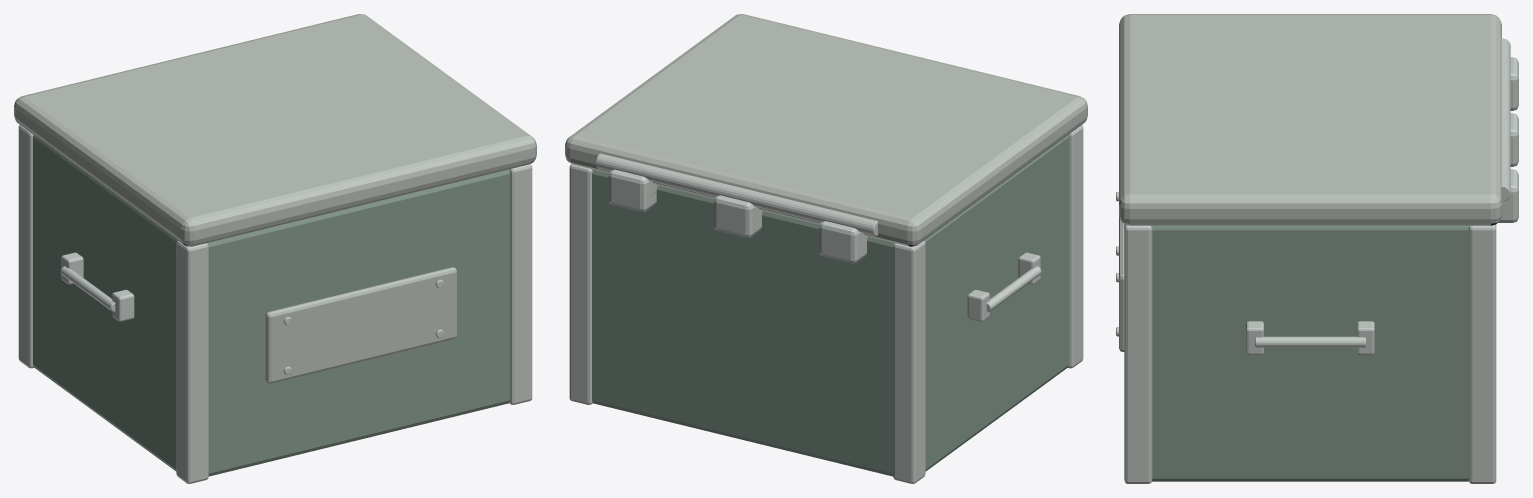
The model's file is Grande caisse de stockage.glb.
The picture shows the model from 3 angles, left to right: view 1: azimuth 30°, elevation 25°; view 2: azimuth 150°, elevation 25°; view 3: azimuth 270°, elevation 25°; orthographic projection. The views are drawn at different scales.
Parts seen in each view (by area): view 1: CRATE_BULK_Reinforced_Lid, CRATE_BULK_Front_Wall, CRATE_BULK_Left_Wall, CRATE_BULK_Attached_Front_Panel, CRATE_BULK_Corner_Post_-1.0_-1.0, CRATE_BULK_Corner_Post_1.0_-1.0, CRATE_BULK_Corner_Post_-1.0_1.0, CRATE_BULK_Bottom_Slab, CRATE_BULK_Left_Handle_Grip, CRATE_BULK_Left_Handle_Front_Mount; view 2: CRATE_BULK_Back_Wall, CRATE_BULK_Reinforced_Lid, CRATE_BULK_Left_Wall, CRATE_BULK_Corner_Post_-1.0_1.0, CRATE_BULK_Corner_Post_1.0_1.0, CRATE_BULK_Reinforced_Hinge_Rod, CRATE_BULK_Corner_Post_-1.0_-1.0, CRATE_BULK_Hinge_Base_1, CRATE_BULK_Hinge_Base_0, CRATE_BULK_Hinge_Base_2, CRATE_BULK_Left_Handle_Grip, CRATE_BULK_Left_Handle_Back_Mount; view 3: CRATE_BULK_Reinforced_Lid, CRATE_BULK_Right_Wall, CRATE_BULK_Corner_Post_1.0_-1.0, CRATE_BULK_Corner_Post_1.0_1.0, CRATE_BULK_Bottom_Slab, CRATE_BULK_Reinforced_Hinge_Rod, CRATE_BULK_Right_Handle_Grip, CRATE_BULK_Attached_Front_Panel, CRATE_BULK_Hinge_Base_2, CRATE_BULK_Right_Handle_Back_Mount, CRATE_BULK_Right_Handle_Front_Mount, CRATE_BULK_Hinge_Base_0 (+1 smaller).
Part boxes in pixels (bbox=[...]): CRATE_BULK_Reinforced_Lid: bbox=[14, 14, 536, 246]; CRATE_BULK_Front_Wall: bbox=[207, 169, 509, 476]; CRATE_BULK_Left_Wall: bbox=[33, 135, 177, 471]; CRATE_BULK_Attached_Front_Panel: bbox=[265, 267, 456, 383]; CRATE_BULK_Corner_Post_-1.0_-1.0: bbox=[176, 241, 208, 483]; CRATE_BULK_Corner_Post_1.0_-1.0: bbox=[509, 164, 532, 404]; CRATE_BULK_Corner_Post_-1.0_1.0: bbox=[18, 125, 33, 368]; CRATE_BULK_Bottom_Slab: bbox=[33, 359, 509, 472]; CRATE_BULK_Left_Handle_Grip: bbox=[60, 266, 115, 311]; CRATE_BULK_Left_Handle_Front_Mount: bbox=[112, 289, 134, 321]; CRATE_BULK_Back_Wall: bbox=[592, 169, 894, 476]; CRATE_BULK_Reinforced_Lid: bbox=[565, 14, 1087, 246]; CRATE_BULK_Left_Wall: bbox=[924, 135, 1068, 471]; CRATE_BULK_Corner_Post_-1.0_1.0: bbox=[893, 241, 925, 483]; CRATE_BULK_Corner_Post_1.0_1.0: bbox=[569, 164, 592, 404]; CRATE_BULK_Reinforced_Hinge_Rod: bbox=[595, 153, 877, 235]; CRATE_BULK_Corner_Post_-1.0_-1.0: bbox=[1068, 125, 1083, 368]; CRATE_BULK_Hinge_Base_1: bbox=[714, 195, 762, 237]; CRATE_BULK_Hinge_Base_0: bbox=[819, 221, 867, 263]; CRATE_BULK_Hinge_Base_2: bbox=[608, 169, 656, 211]; CRATE_BULK_Left_Handle_Grip: bbox=[986, 266, 1041, 311]; CRATE_BULK_Left_Handle_Back_Mount: bbox=[967, 289, 989, 321]; CRATE_BULK_Reinforced_Lid: bbox=[1119, 14, 1501, 225]; CRATE_BULK_Right_Wall: bbox=[1151, 225, 1469, 481]; CRATE_BULK_Corner_Post_1.0_-1.0: bbox=[1124, 224, 1152, 483]; CRATE_BULK_Corner_Post_1.0_1.0: bbox=[1468, 224, 1496, 483]; CRATE_BULK_Bottom_Slab: bbox=[1152, 472, 1468, 477]; CRATE_BULK_Reinforced_Hinge_Rod: bbox=[1501, 38, 1510, 201]; CRATE_BULK_Right_Handle_Grip: bbox=[1255, 336, 1365, 347]; CRATE_BULK_Attached_Front_Panel: bbox=[1119, 216, 1124, 351]; CRATE_BULK_Hinge_Base_2: bbox=[1498, 169, 1518, 222]; CRATE_BULK_Right_Handle_Back_Mount: bbox=[1357, 321, 1374, 354]; CRATE_BULK_Right_Handle_Front_Mount: bbox=[1246, 321, 1263, 354]; CRATE_BULK_Hinge_Base_0: bbox=[1510, 57, 1518, 110].
Bounding box in the file's own units: 1.21 × 0.805 × 1.02.
